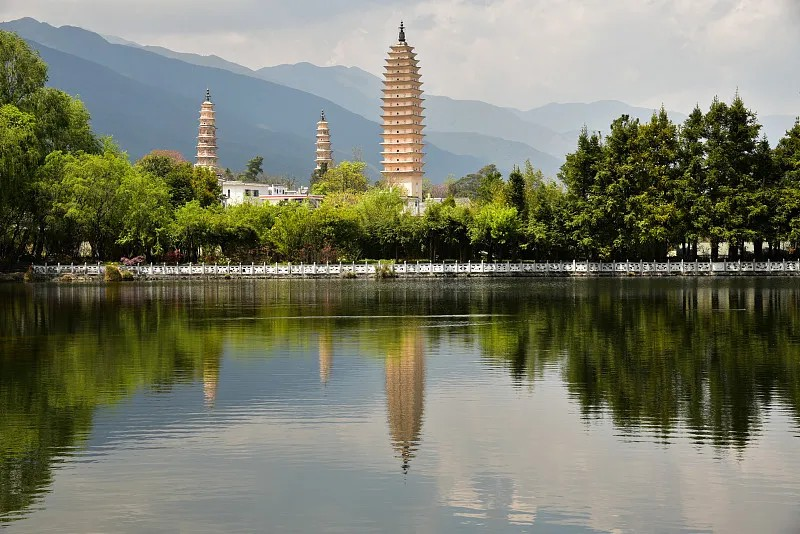ThreePagoda: (380, 19, 425, 197)
